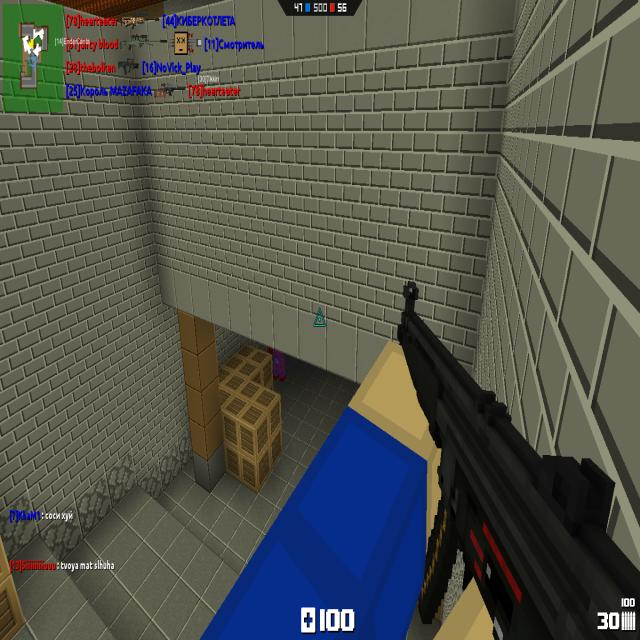enemy: (268, 347, 286, 381)
